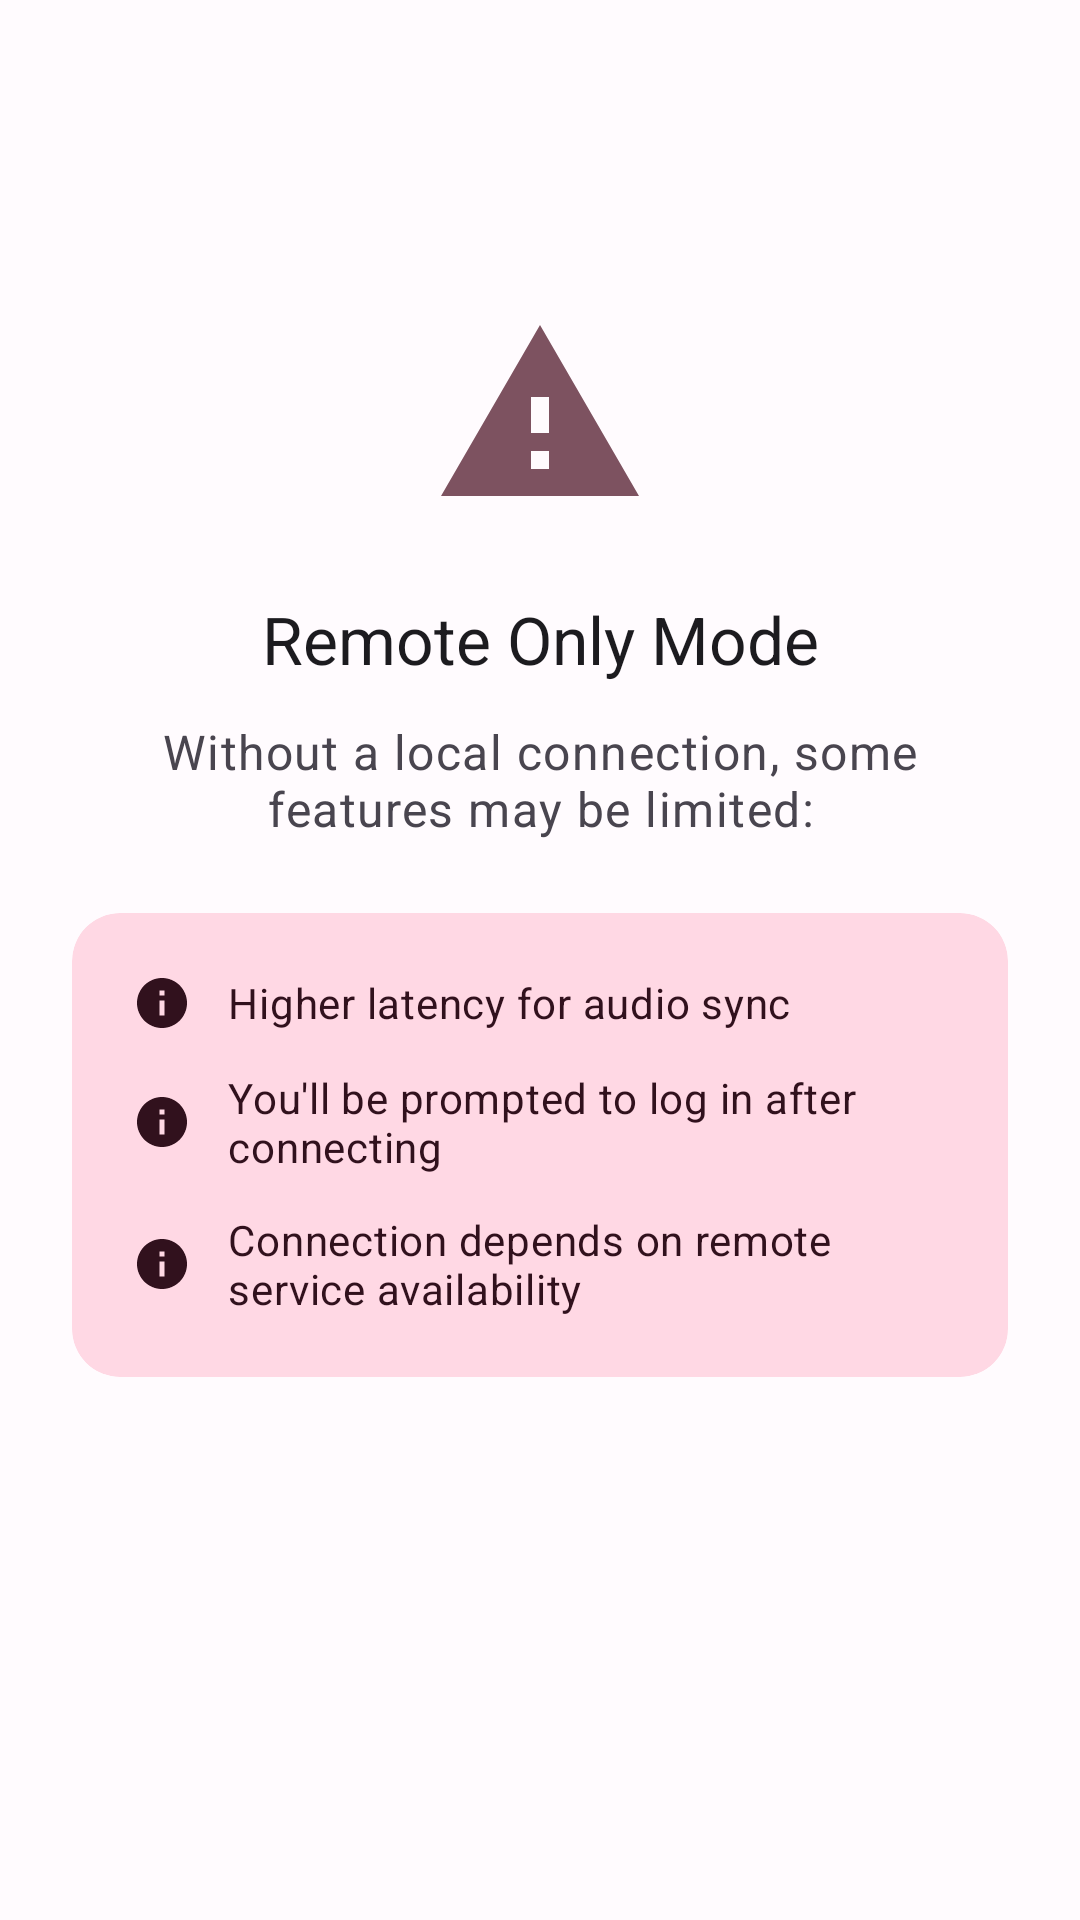

Icons on this 1080*1920 Android screen, each with its box as {"x1": x1, "y1": y1, "x2": x2, "y2": y2}:
info: {"x1": 137, "y1": 978, "x2": 187, "y2": 1028}, {"x1": 137, "y1": 1097, "x2": 187, "y2": 1147}, {"x1": 137, "y1": 1239, "x2": 187, "y2": 1289}
warning: {"x1": 441, "y1": 325, "x2": 639, "y2": 496}
